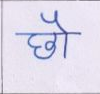ai_matra: (41, 12, 70, 32)
